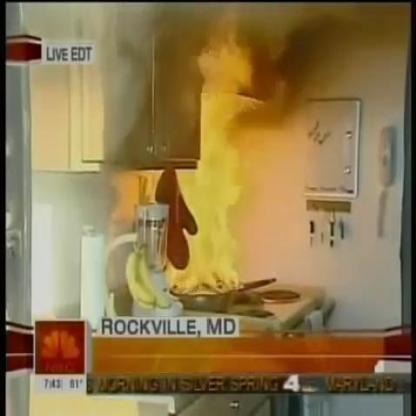fire: (140, 19, 254, 291)
